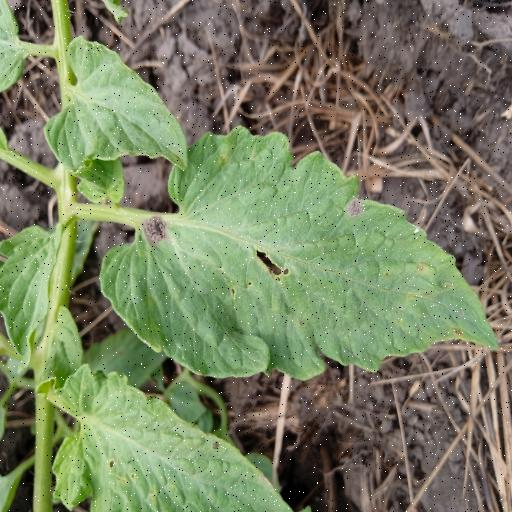Tomato_Mildiou: (72, 124, 512, 398)
